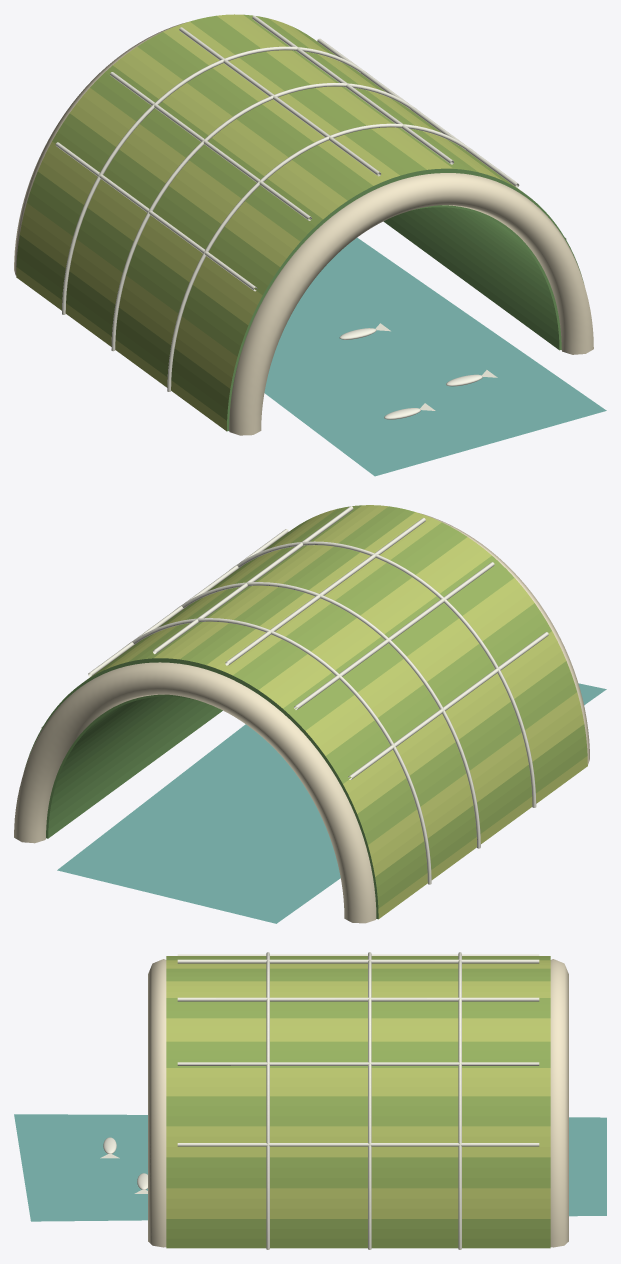
Rendered from asset02.glb.
The picture shows the model from 3 angles, top to bottom: view 1: azimuth 30°, elevation 25°; view 2: azimuth 150°, elevation 25°; view 3: azimuth 270°, elevation 25°; orthographic projection. The views are drawn at different scales.
Parts seen in each view (by area): view 1: 02_green_tunnel; view 2: 02_green_tunnel; view 3: 02_green_tunnel.
Boxes of the visible parts, left/top/right/bottom form: 02_green_tunnel: left=14, top=14, right=606, bottom=476; 02_green_tunnel: left=14, top=505, right=606, bottom=923; 02_green_tunnel: left=14, top=952, right=606, bottom=1249.
Size of the model in its own units: 0.6606 by 0.3701 by 1.
